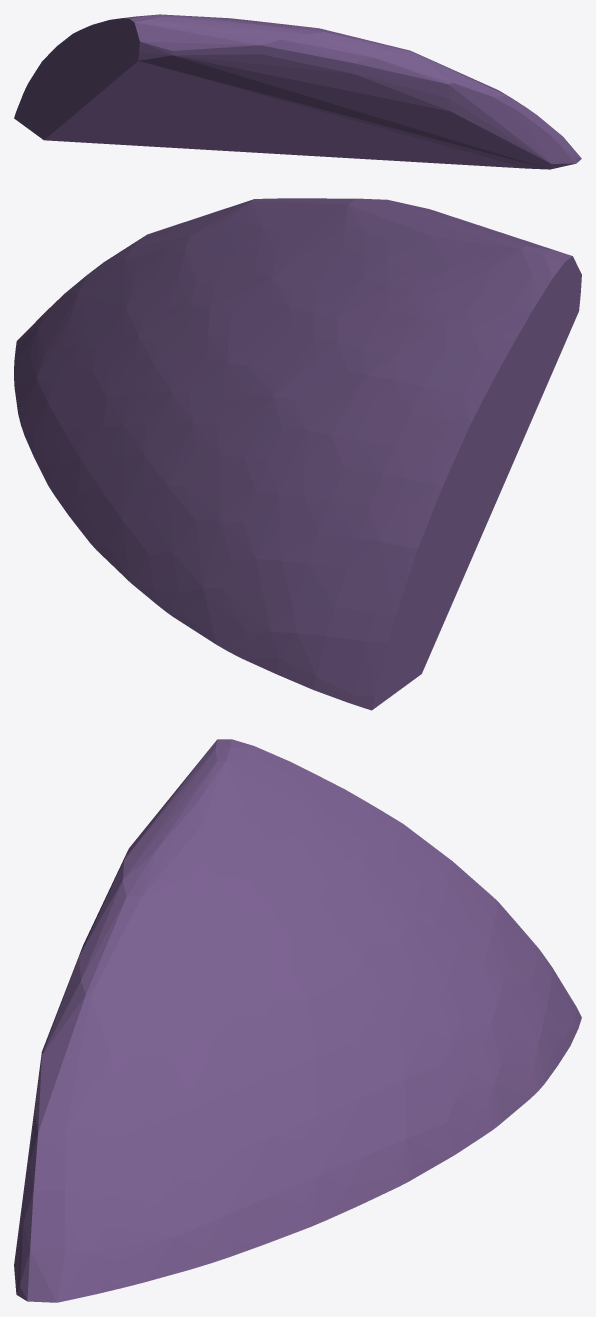
3 renders of one model, top to bottom at view 1: azimuth 30°, elevation 25°; view 2: azimuth 150°, elevation 25°; view 3: azimuth 270°, elevation 25°, orthographic. The views are drawn at different scales.
Size of the model in its own units: 0.052 by 0.0237 by 0.0438.
